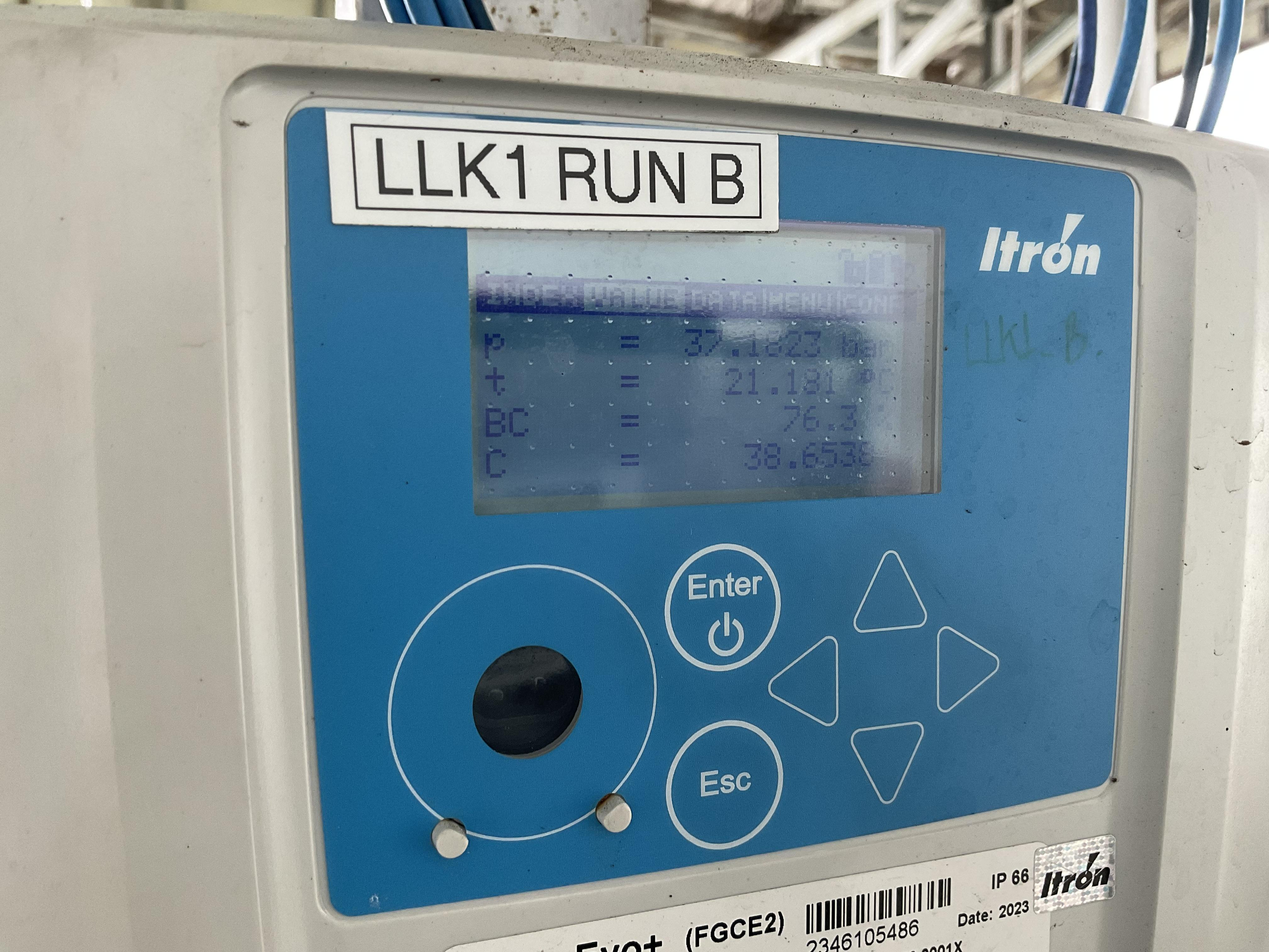digital_screen: (466, 201, 951, 517)
